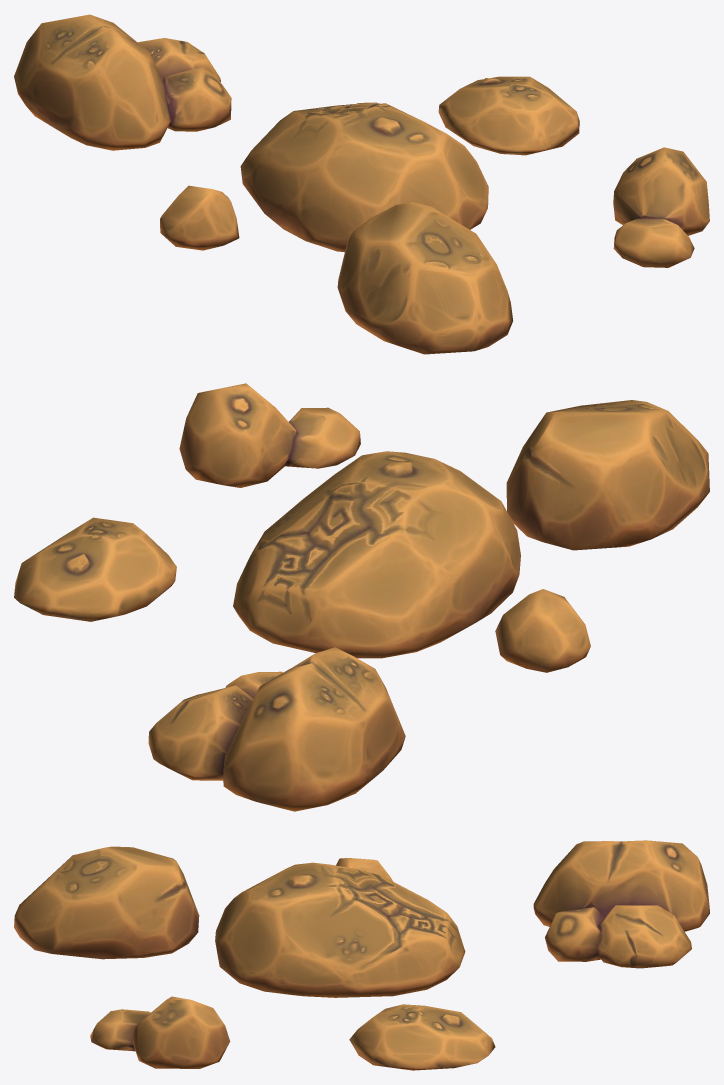
Rendered from desert_rocks_2.glb.
The picture shows the model from 3 angles, top to bottom: view 1: azimuth 30°, elevation 25°; view 2: azimuth 150°, elevation 25°; view 3: azimuth 270°, elevation 25°; orthographic projection. The views are drawn at different scales.
Parts seen in each view (by area): view 1: TCE_Rocks_v01_LP:Group61201; view 2: TCE_Rocks_v01_LP:Group61201; view 3: TCE_Rocks_v01_LP:Group61201.
Boxes of the visible parts, x1,y1,x2,y2 form: TCE_Rocks_v01_LP:Group61201: (14, 14, 709, 354); TCE_Rocks_v01_LP:Group61201: (14, 383, 709, 811); TCE_Rocks_v01_LP:Group61201: (14, 840, 709, 1070).
Size of the model in its own units: 1.29 by 0.2926 by 2.
Materials: 1 (1 with a texture image).
